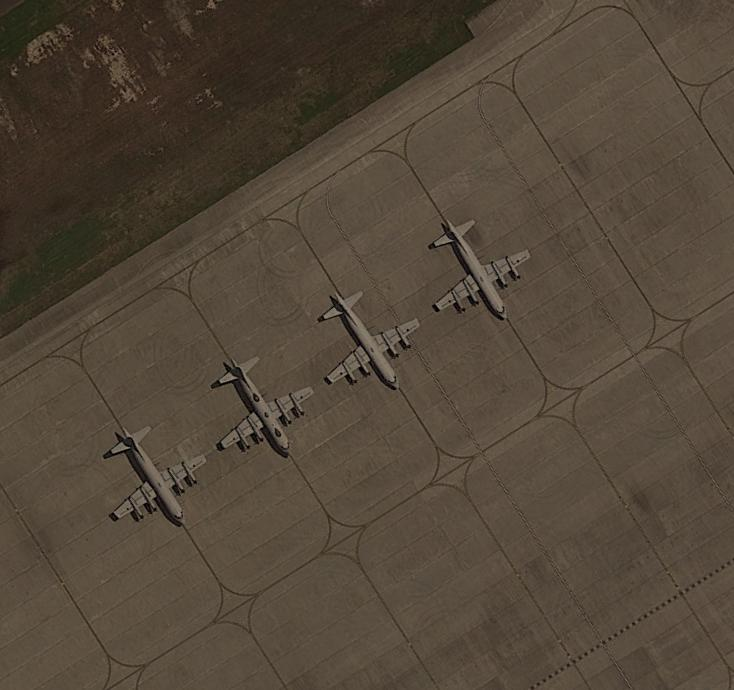A9: (425, 205, 534, 319), (315, 277, 421, 387), (211, 346, 317, 456), (100, 415, 206, 525)
